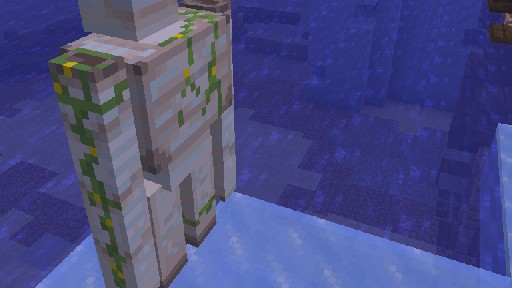iron_golem: (47, 0, 236, 288)
